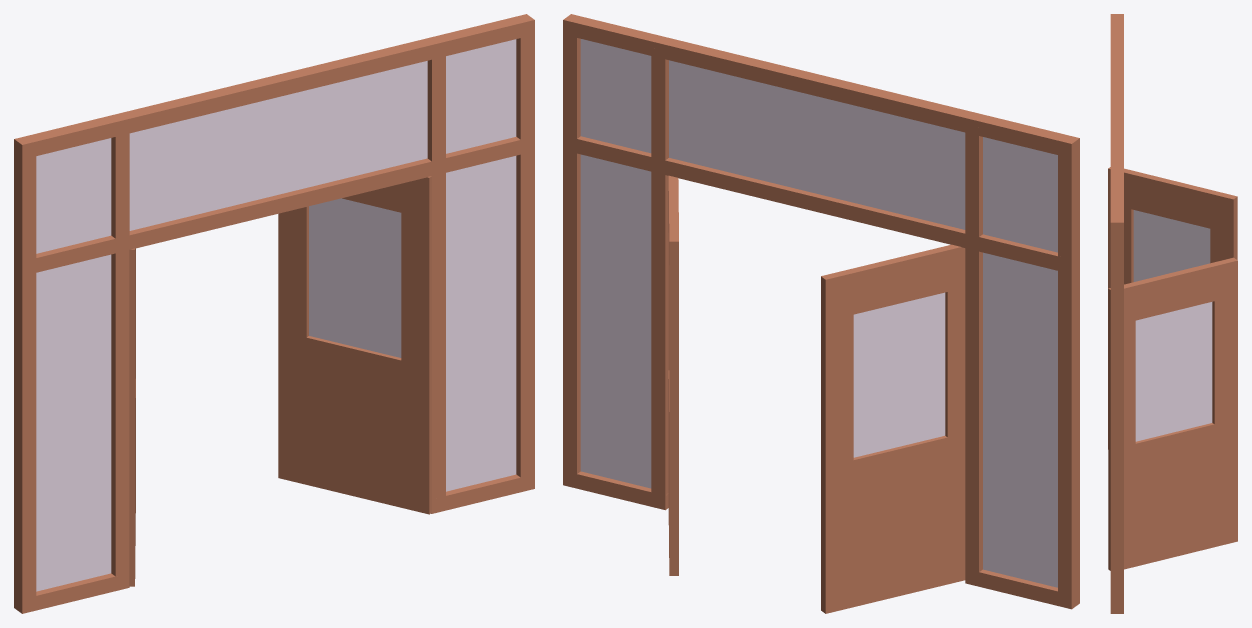
The model's file is BuildingDoorAnimation.fbx.
3 renders of one model, left to right at view 1: azimuth 30°, elevation 25°; view 2: azimuth 150°, elevation 25°; view 3: azimuth 270°, elevation 25°, orthographic. The views are drawn at different scales.
Parts seen in each view (by area): view 1: Plane.001, Plane.002, Cube.006, 4-vertical.051, 1.001, 3.001, Plane.003; view 2: Plane.001, Plane.003, Cube.006, 4-vertical.051, 3.001, 1.001, Plane.002; view 3: Plane.002, Plane.003, Cube.006.
Part boxes in pixels (x1,y1,x2,y2): Plane.001: (36,39,516,591); Plane.002: (278,176,431,514); Cube.006: (14,14,534,613); 4-vertical.051: (36,136,520,272); 1.001: (111,133,129,576); 3.001: (427,56,445,499); Plane.003: (129,248,135,586); Plane.001: (580,39,1057,587); Plane.003: (821,244,965,613); Cube.006: (563,14,1079,609); 4-vertical.051: (574,136,1061,271); 3.001: (651,47,668,498); 1.001: (965,124,982,574); Plane.002: (668,175,678,575); Plane.002: (1108,257,1237,570); Plane.003: (1108,167,1237,449); Cube.006: (1110,14,1123,613).
Bounding box in the file's own units: 548 × 480 × 144.
